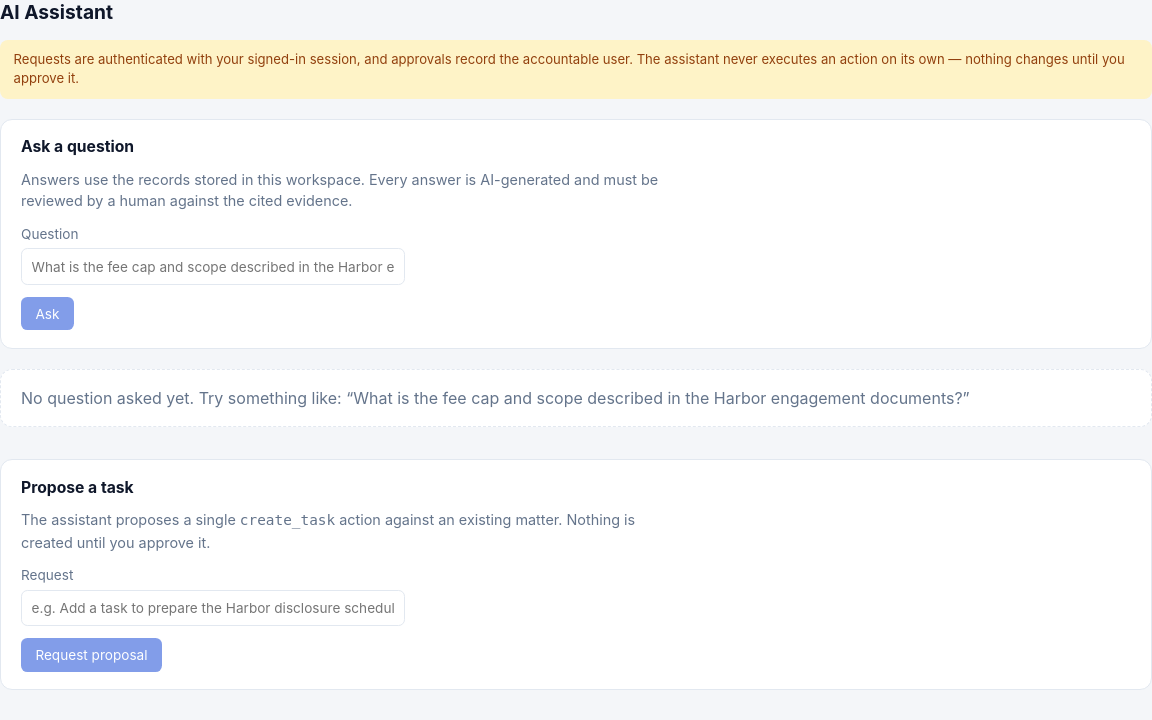
Test: AssistantPage › explains when evidence is insufficient
The width and height of the screenshot is (1152, 720).
Replace the text in the field labelled "Question" with "Anything about Zebra?" at (213, 267), box [21,248,405,285]
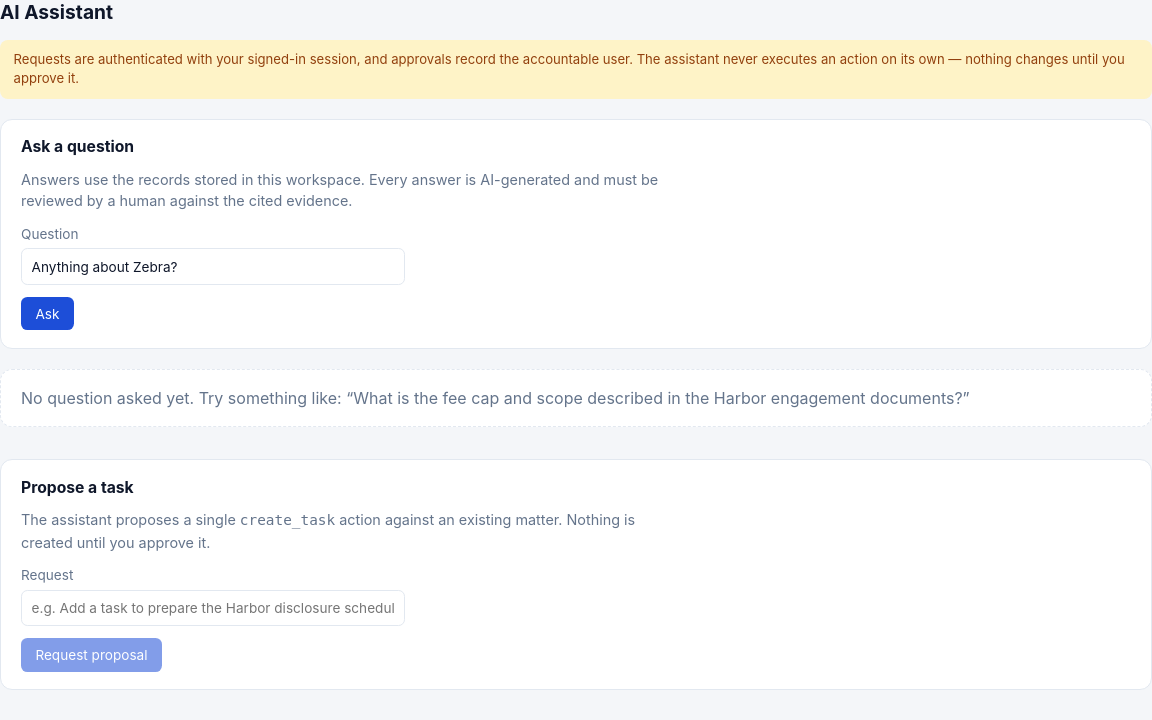
Click the button "Ask".
click(47, 314)  # box [21,297,74,330]
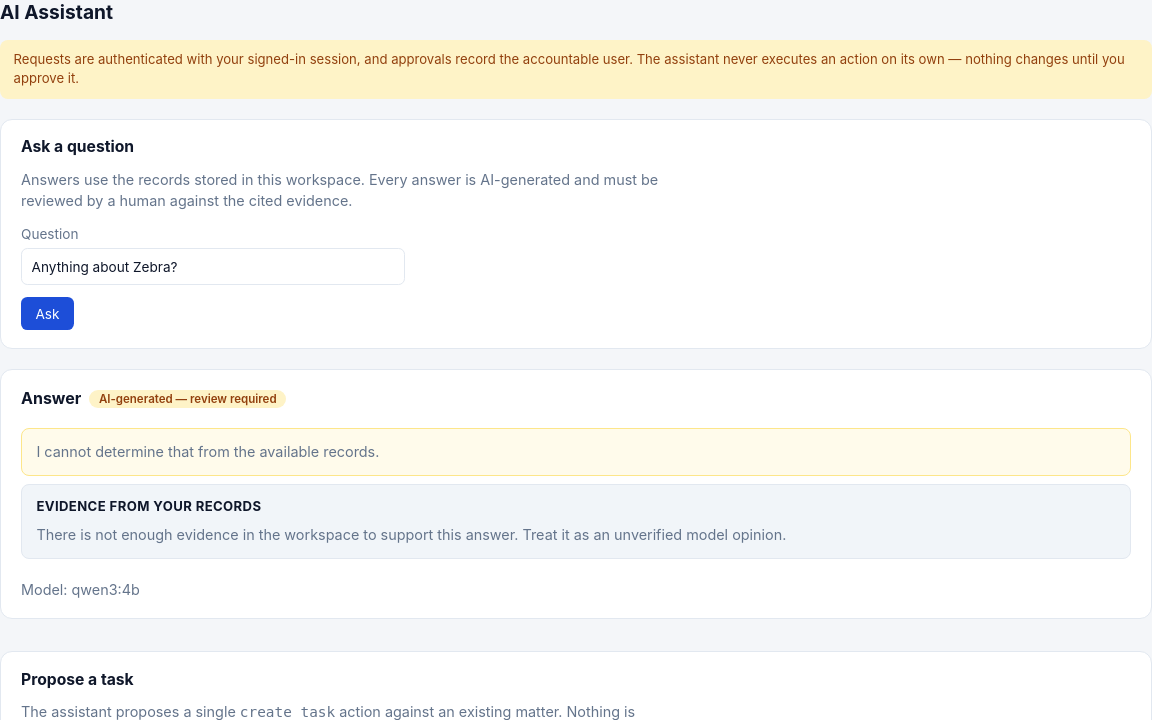
expect the text "not enough evidence in the workspace" is shown: met, box [36,526,786,543]
